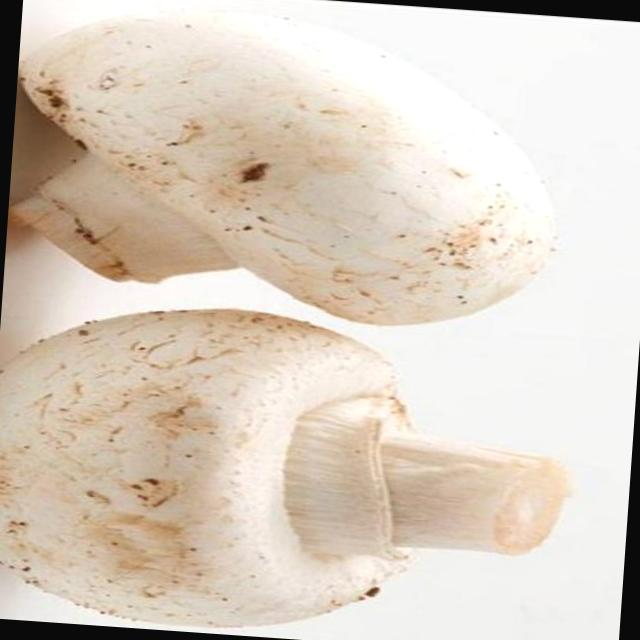Agaricus bisporus: (0, 293, 577, 640), (12, 0, 568, 337)
